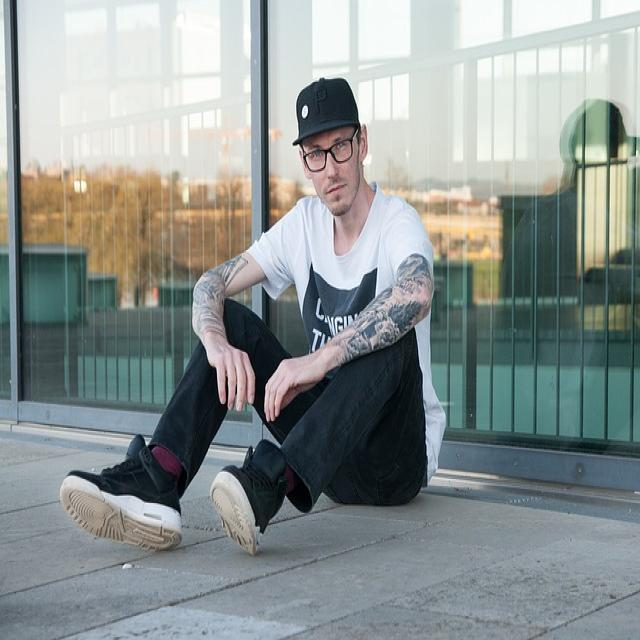Real human 2: (56, 70, 475, 573)
